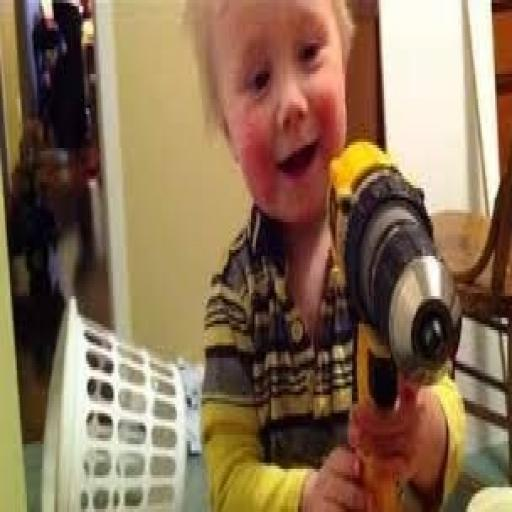laughing: (180, 3, 468, 506)
